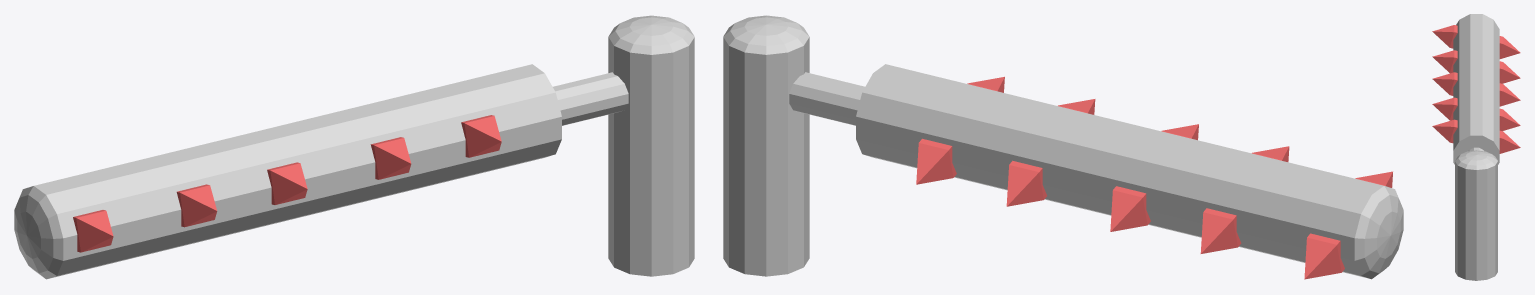
The model's file is RotateThorns01.fbx.
The picture shows the model from 3 angles, left to right: view 1: azimuth 30°, elevation 25°; view 2: azimuth 150°, elevation 25°; view 3: azimuth 270°, elevation 25°; orthographic projection. The views are drawn at different scales.
Visible parts, largest first — view 1: RotateThorns01; view 2: RotateThorns01; view 3: RotateThorns01.
Part boxes in pixels (x1=…): RotateThorns01: x1=14, y1=15, x2=694, y2=279; RotateThorns01: x1=723, y1=15, x2=1403, y2=279; RotateThorns01: x1=1432, y1=14, x2=1520, y2=280.
Size of the model in its own units: 341 by 115 by 79.18.
